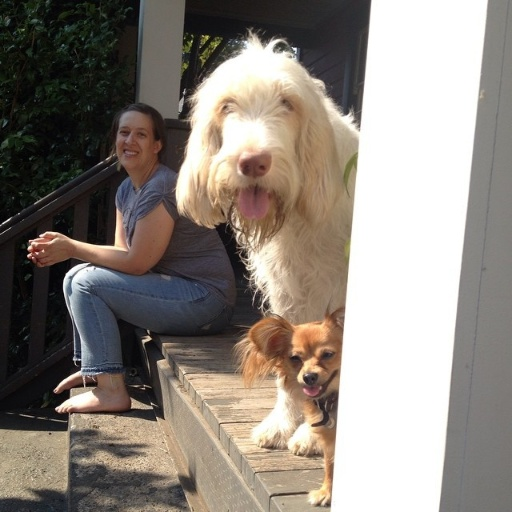hand: (21, 225, 88, 273), (25, 236, 54, 269)
